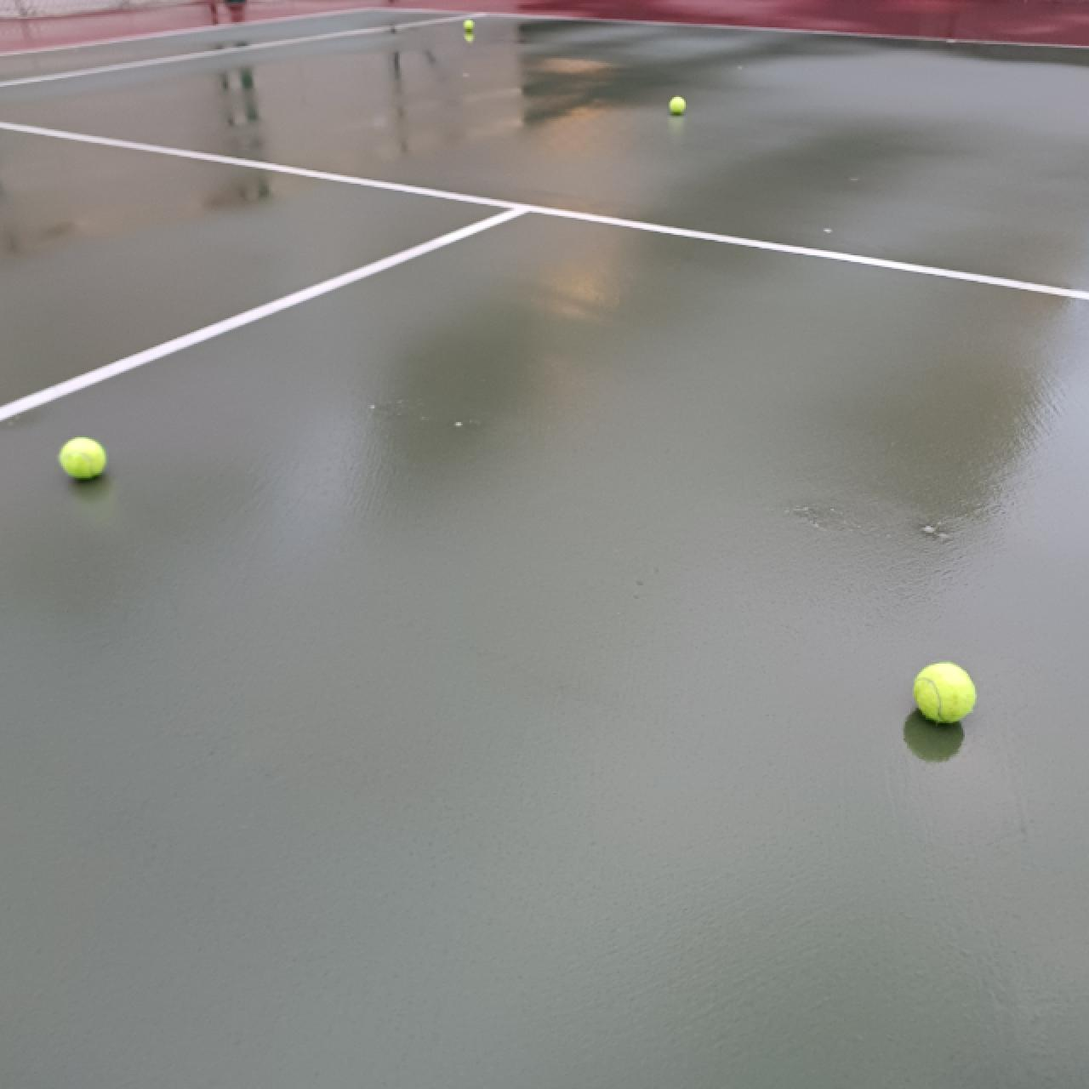tennis-ball: (913, 661, 978, 724), (57, 436, 110, 483), (668, 95, 687, 116), (463, 19, 475, 32)
